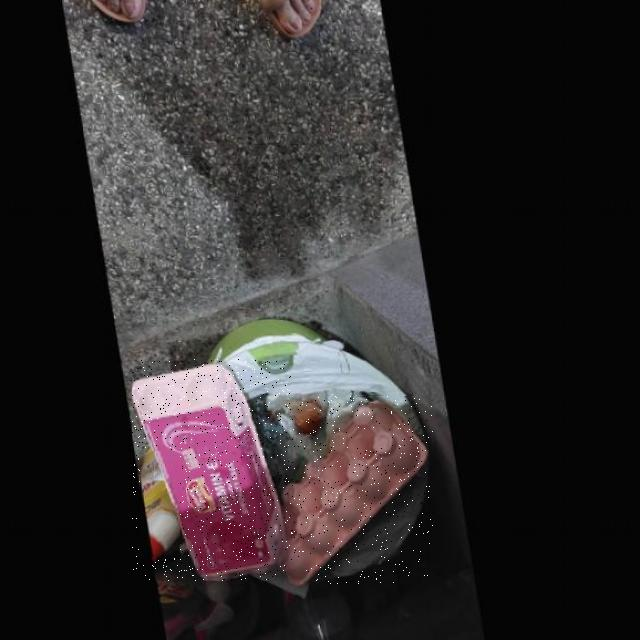plastic: (132, 359, 291, 581), (278, 396, 433, 584), (141, 451, 180, 557)
